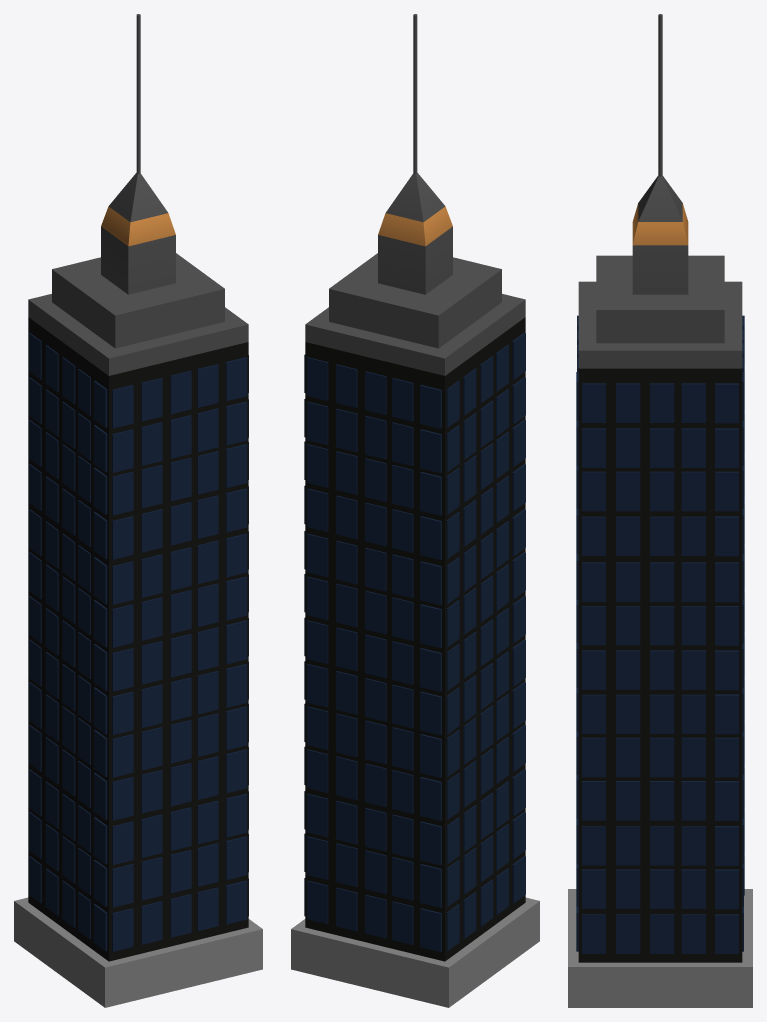
The model's file is Building_Tall.fbx.
3 views of the same model, side by side, from view 1: azimuth 30°, elevation 25°; view 2: azimuth 150°, elevation 25°; view 3: azimuth 270°, elevation 25° (orthographic).
Visible parts, largest first — view 1: Building_Tall; view 2: Building_Tall; view 3: Building_Tall.
Part boxes in pixels (bbox=[...]): Building_Tall: bbox=[14, 14, 262, 1007]; Building_Tall: bbox=[291, 14, 539, 1007]; Building_Tall: bbox=[568, 14, 752, 1007].
Size of the model in its own units: 4.09 by 23.31 by 4.09.
